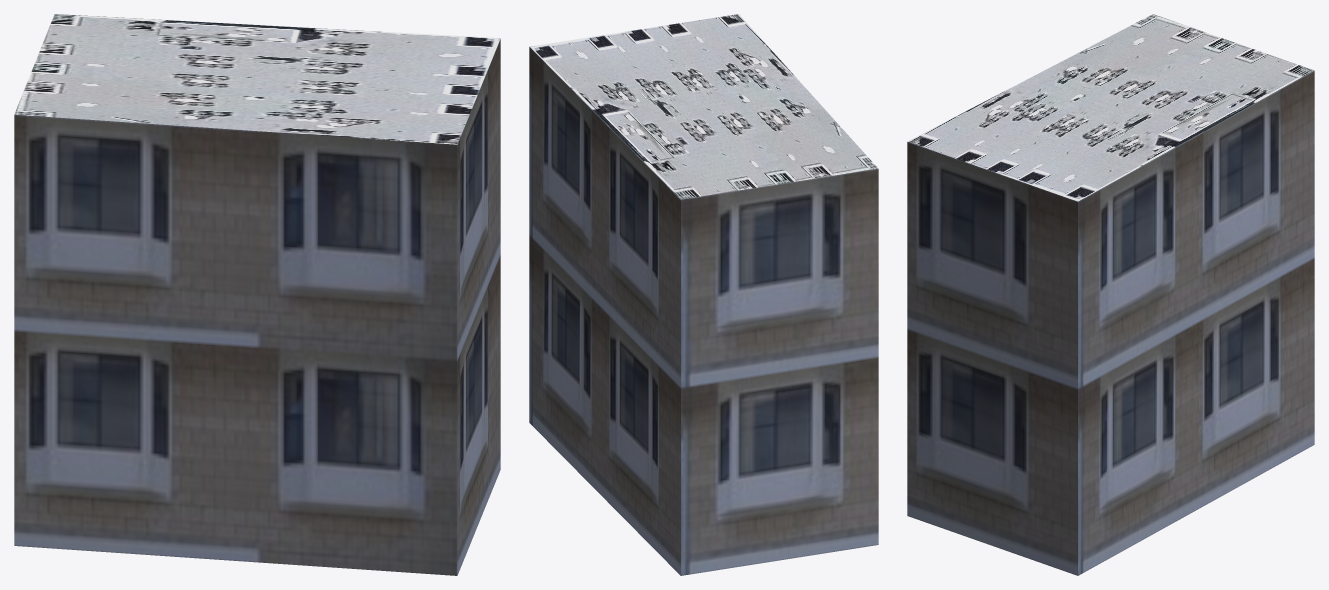
The model's file is ResTex__3405.fbx.
3 views of the same model, side by side, from view 1: azimuth 30°, elevation 25°; view 2: azimuth 150°, elevation 25°; view 3: azimuth 270°, elevation 25° (orthographic). The views are drawn at different scales.
Parts seen in each view (by area): view 1: CityEngineMaterial_3_m, CityEngineMaterial_m; view 2: CityEngineMaterial_3_m, CityEngineMaterial_m; view 3: CityEngineMaterial_3_m, CityEngineMaterial_m.
Part boxes in pixels (x1,y1,x2,y2): CityEngineMaterial_3_m: (14,39,500,575); CityEngineMaterial_m: (14,14,500,144); CityEngineMaterial_3_m: (529,47,878,575); CityEngineMaterial_m: (530,14,877,199); CityEngineMaterial_3_m: (907,70,1314,575); CityEngineMaterial_m: (907,14,1314,201).
Bounding box in the file's own units: 6.45 × 6 × 5.92.
2 materials, 2 textured.
